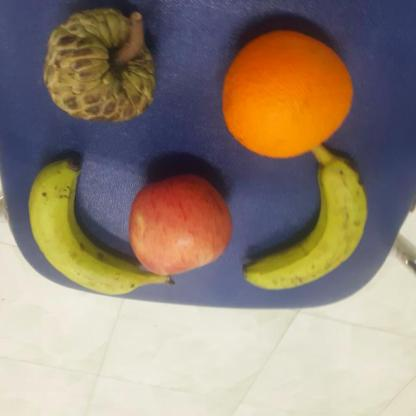annona: (42, 9, 156, 124)
apple: (128, 174, 233, 275)
banana: (28, 160, 174, 296), (241, 160, 369, 290)
orange: (223, 31, 354, 159)
